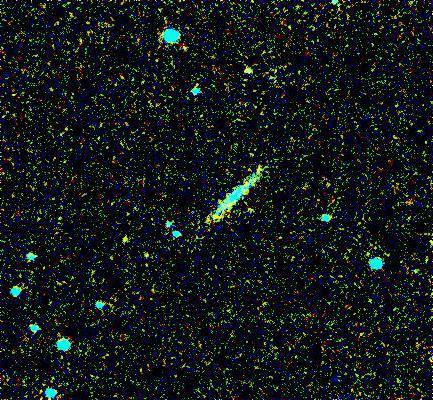star: (111, 221, 141, 251)
